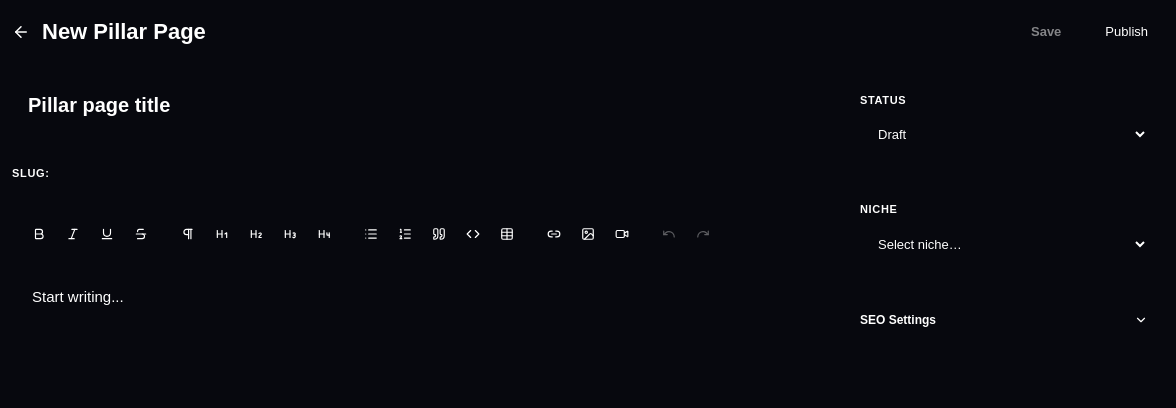
topic guide editor › freezes a new guide during its insert so success cannot leave a newer unsaved draft on the create route
Later steps or results of the test are not shown.
In the field with placeholder "Pillar page title": (416, 104) [12,76,820,134], type "New draft guide"
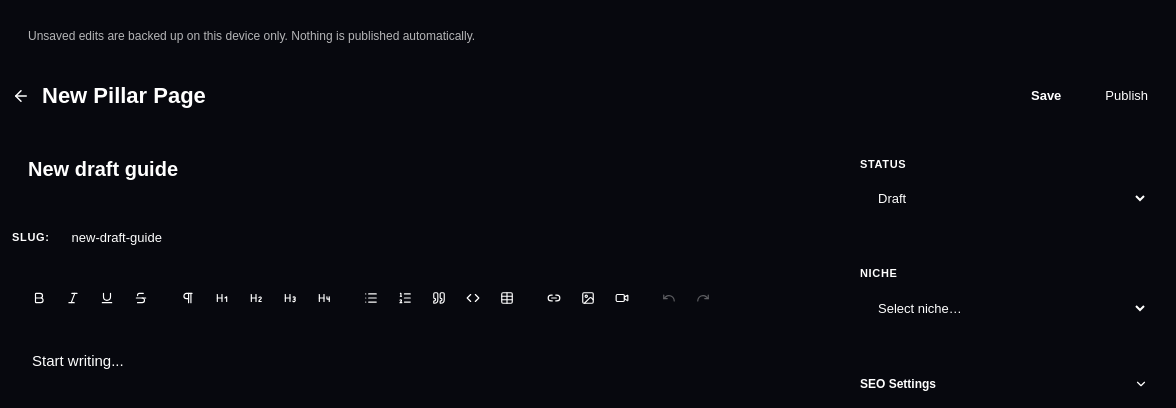
Now the button "Save" is enabled, box [1011,76,1081,116]
